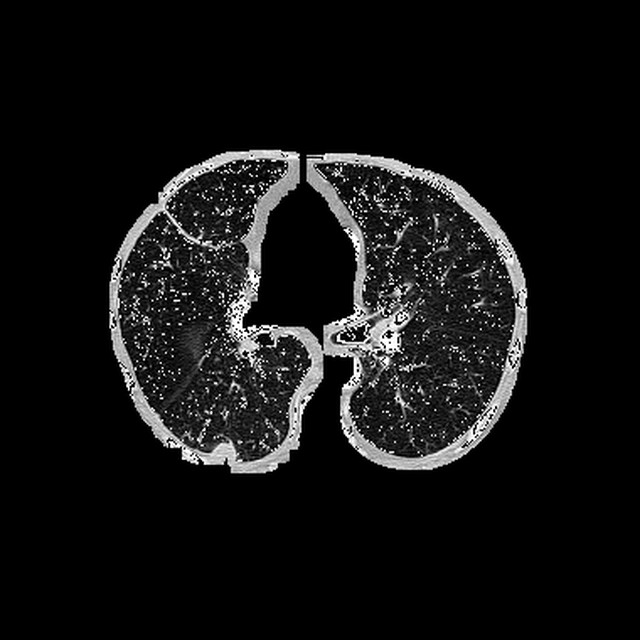PN: (212, 441, 236, 465)
